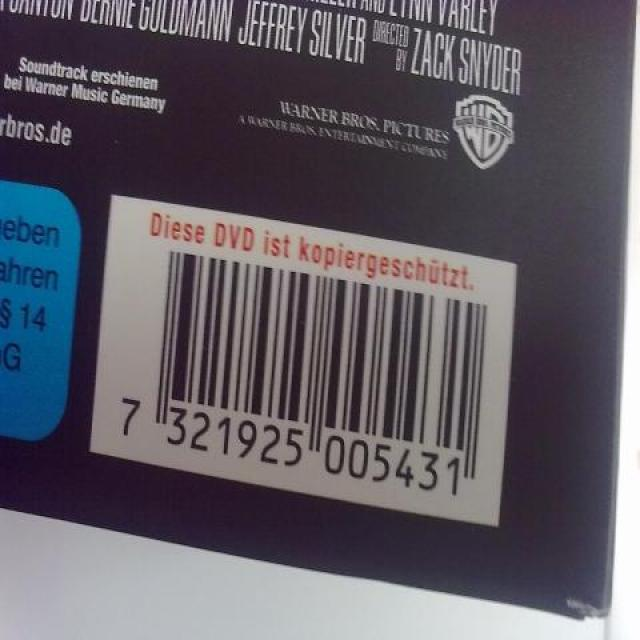Barcode: (89, 195, 518, 528)
